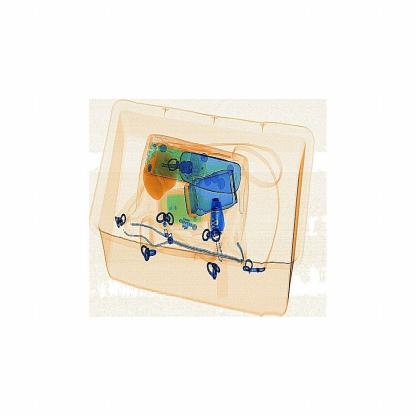scissors: (203, 186, 237, 246)
